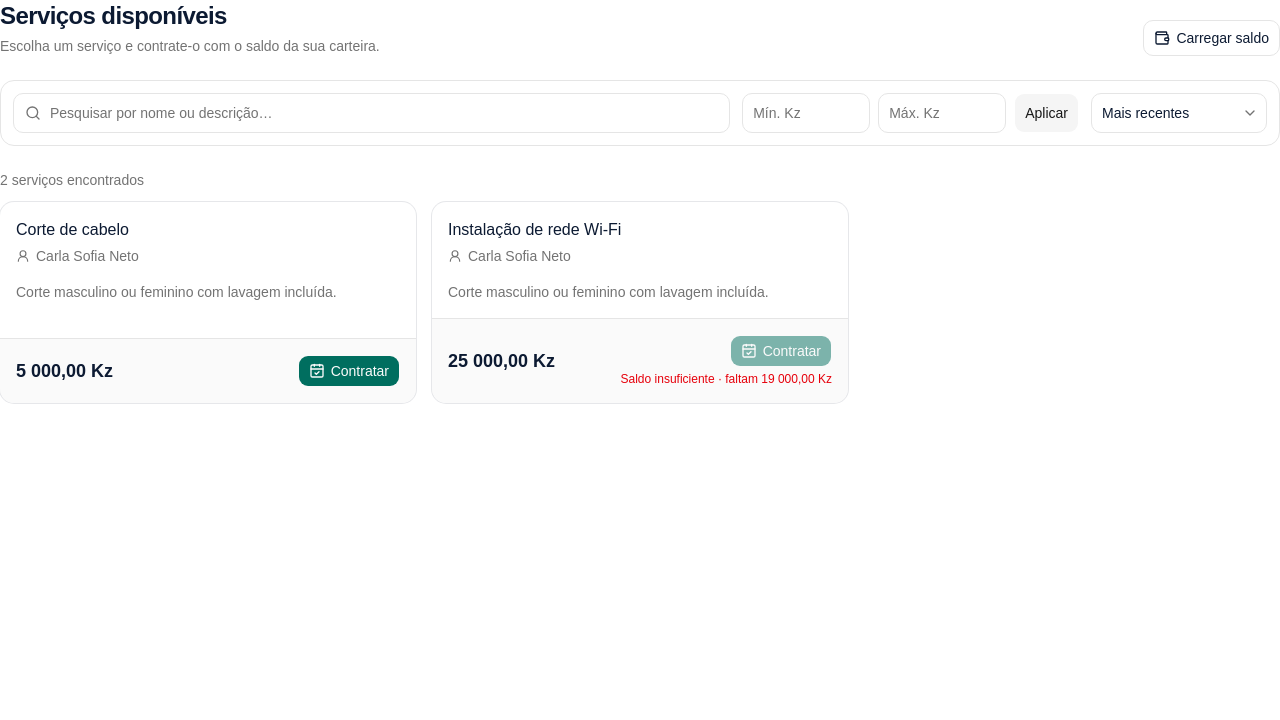
Test case: CatalogPage › mostra saldo atual → saldo após e confirma a reserva
What coordinates should you click on to do the following:
click the button with aria-label "Contratar Corte de cabelo"
I would click on:
 (349, 371)
Its box is [298,355,400,387].
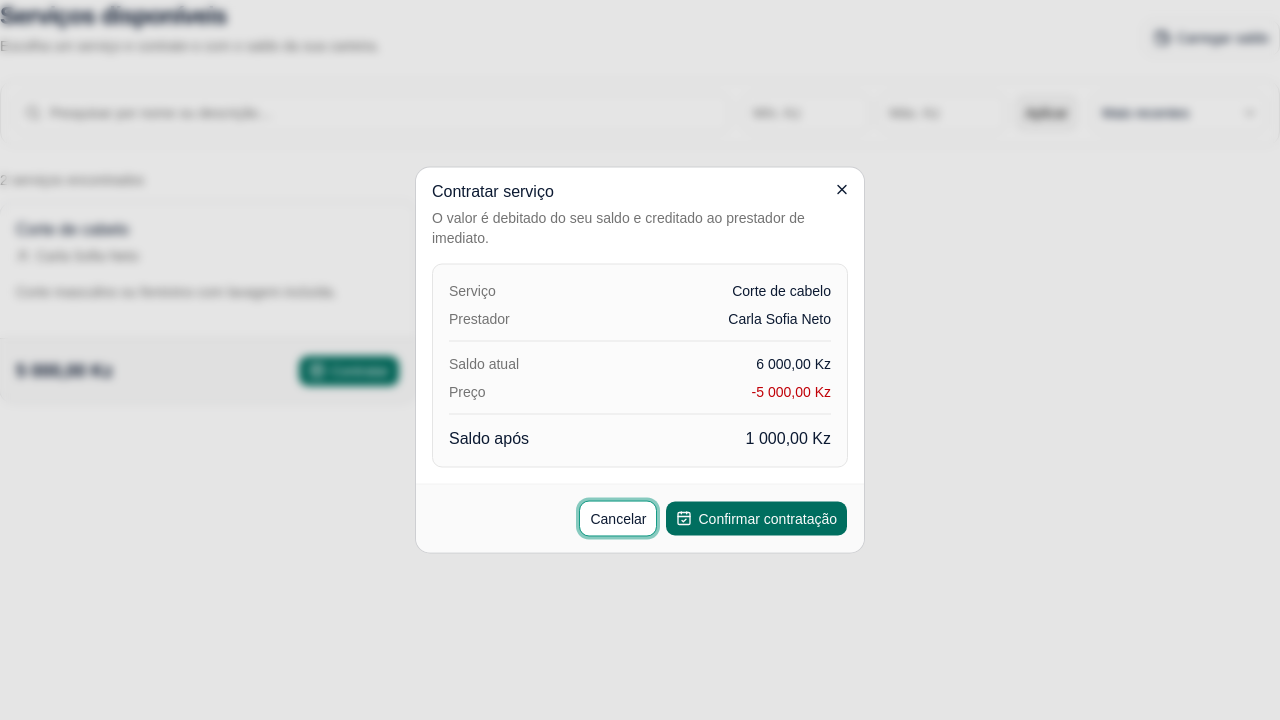
Now the text "6 000,00 Kz" is shown, box [756,356,831,372]
Now the text "1 000,00 Kz" is shown, box [746,430,831,446]
What coordinates should you click on to do the following:
click the button "Confirmar contratação"
I would click on:
 (757, 518)
Its box is [666,500,848,536].
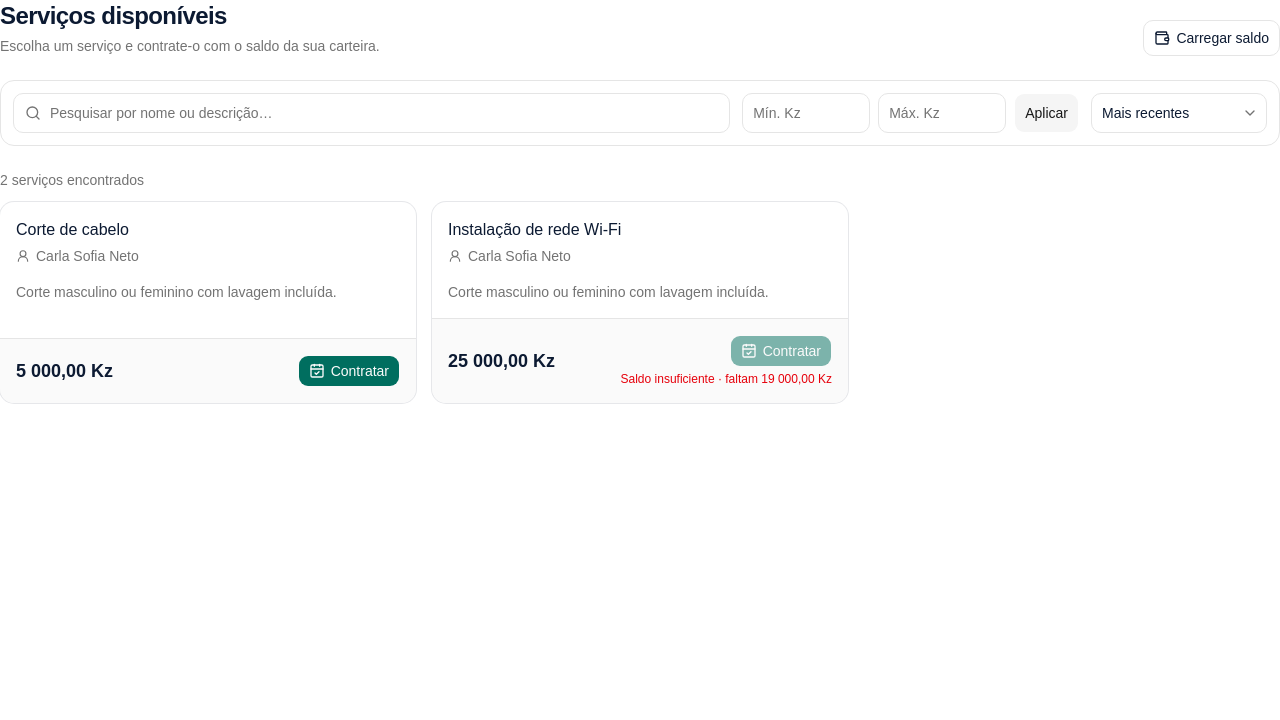
Now the dialog is gone
